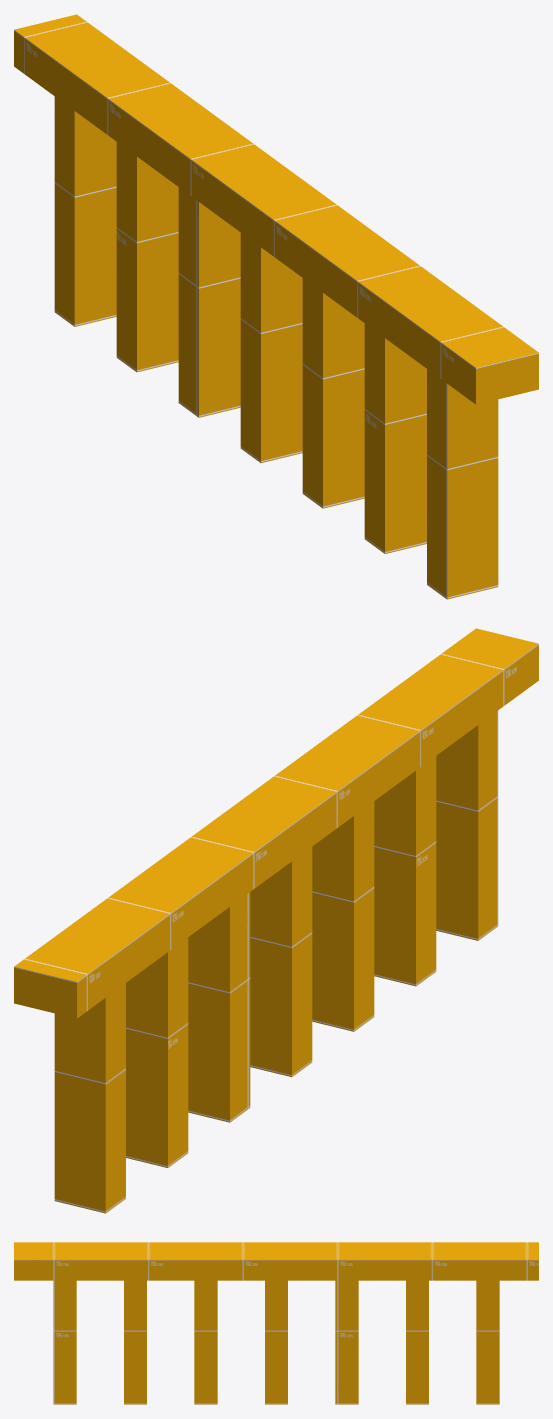
File: WallPillars.fbx
3 renders of one model, top to bottom at view 1: azimuth 30°, elevation 25°; view 2: azimuth 150°, elevation 25°; view 3: azimuth 270°, elevation 25°, orthographic. The views are drawn at different scales.
Visible parts, largest first — view 1: WallPillars; view 2: WallPillars; view 3: WallPillars.
Part boxes in pixels (bbox=[...]): WallPillars: bbox=[14, 14, 538, 599]; WallPillars: bbox=[14, 628, 538, 1213]; WallPillars: bbox=[14, 1242, 538, 1404].
Bounding box in the file's own units: 1.52 × 5.98 × 19.39.
